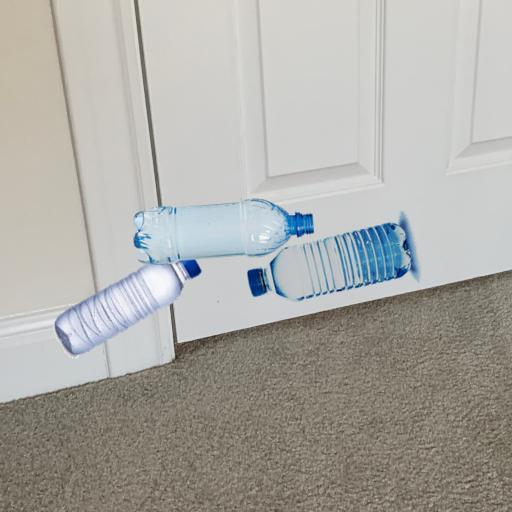bottle: (247, 216, 427, 323), (52, 250, 202, 365), (126, 198, 323, 264)
